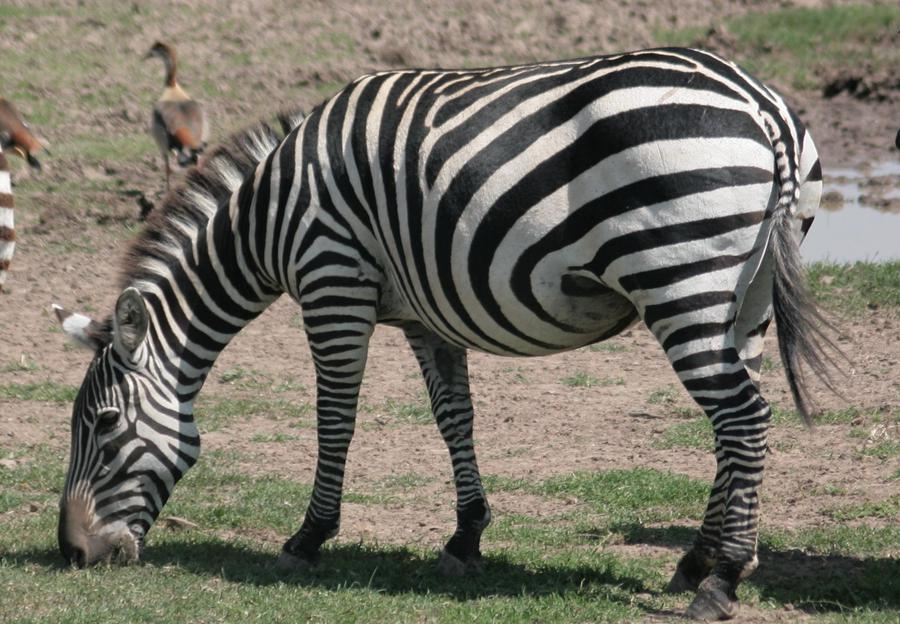zebra_plains: (252, 72, 781, 382)
